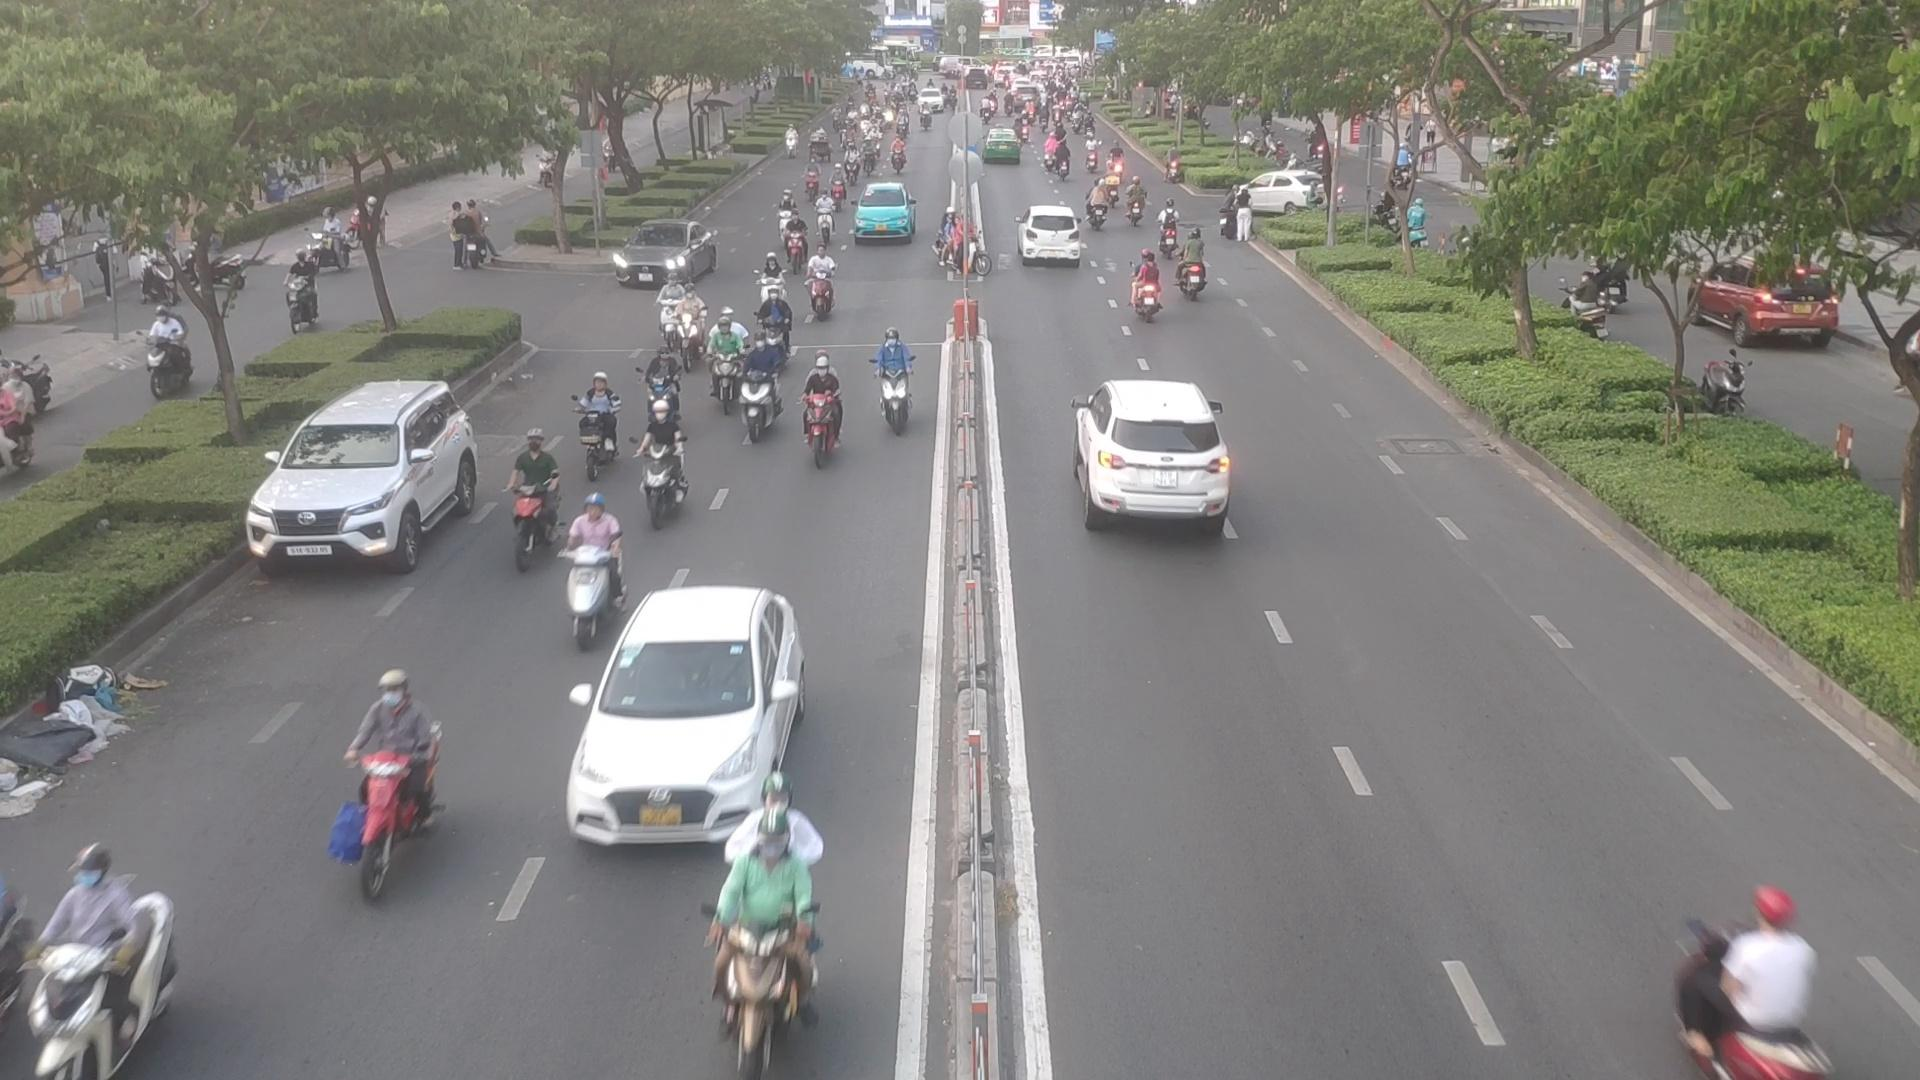car: (564, 588, 808, 853), (247, 382, 488, 578), (1079, 385, 1234, 527), (613, 222, 720, 291), (1017, 204, 1089, 266), (1233, 171, 1327, 216), (853, 185, 919, 243)
motorbike: (21, 856, 200, 1072), (698, 789, 839, 1050), (1663, 884, 1821, 1080), (334, 673, 454, 898), (488, 434, 555, 560), (559, 524, 626, 644), (566, 367, 632, 477), (738, 320, 790, 448), (862, 310, 907, 439), (642, 405, 684, 535), (804, 356, 841, 479), (713, 305, 752, 411), (1182, 214, 1222, 306), (674, 280, 709, 378), (935, 216, 992, 268), (752, 247, 791, 319), (752, 287, 795, 352), (642, 352, 680, 419), (815, 256, 845, 324), (1088, 177, 1124, 233), (1131, 272, 1167, 324), (655, 278, 683, 345), (767, 193, 799, 245), (812, 191, 836, 251), (1160, 208, 1179, 260), (787, 214, 804, 257)
